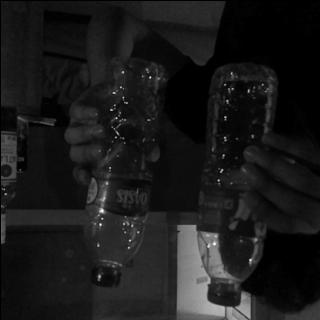plastic_bottles: (197, 68, 274, 309), (86, 48, 157, 292)
